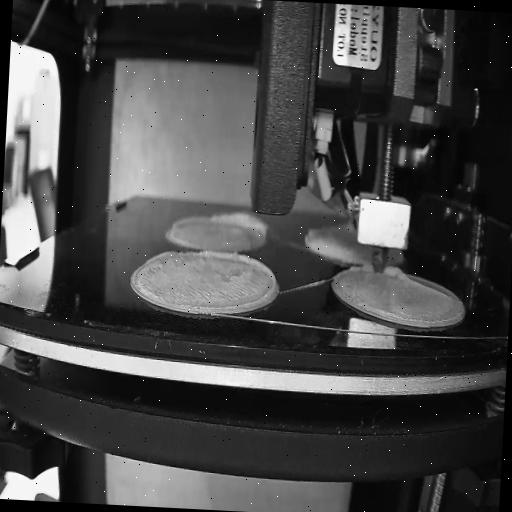over_extrusion: (194, 248, 278, 318), (382, 266, 452, 302), (208, 210, 270, 242), (146, 246, 180, 268), (172, 212, 207, 232), (348, 264, 374, 272)
